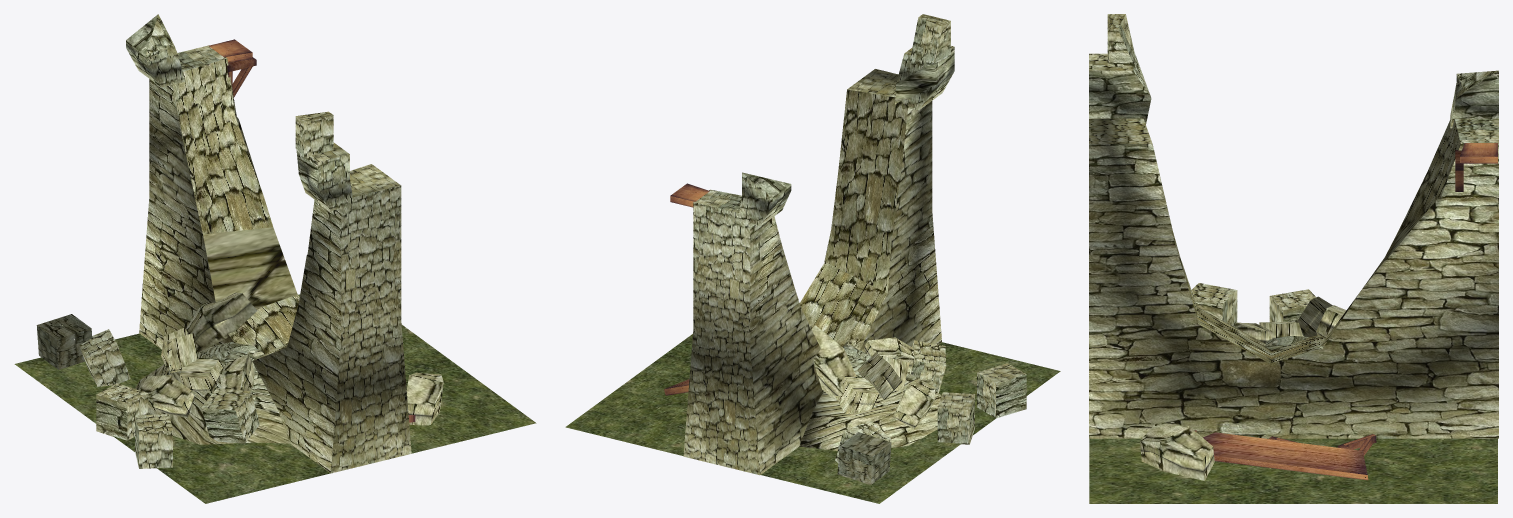
Rendered from Wall1desB.obj.
3 views of the same model, side by side, from view 1: azimuth 30°, elevation 25°; view 2: azimuth 150°, elevation 25°; view 3: azimuth 270°, elevation 25° (orthographic). The views are drawn at different scales.
Visible parts, largest first — view 1: Box385, Mesh03, Plane10, Line27, Box405, Box395, Box278, Box291, Box401, Box404, Box400, Box402 (+7 smaller); view 2: Box385, Mesh03, Plane10, Line27, Box395, Box400, Box404, Box405, Box401, Box291, Box403, Box278 (+6 smaller); view 3: Box385, Plane10, Mesh03, Box406, Box395, Box321, Box405, Box400, Box403, Box401, Box408, Box396 (+3 smaller).
Boxes of the visible parts, <box> form: Box385: <box>139,45,411,473</box>; Mesh03: <box>172,58,299,359</box>; Plane10: <box>14,294,536,503</box>; Line27: <box>135,342,289,444</box>; Box405: <box>126,14,185,87</box>; Box395: <box>296,142,352,210</box>; Box278: <box>201,388,259,443</box>; Box291: <box>186,292,257,353</box>; Box401: <box>96,383,148,440</box>; Box404: <box>36,314,92,369</box>; Box400: <box>135,414,172,468</box>; Box402: <box>79,329,130,386</box>; Box385: <box>683,69,941,475</box>; Mesh03: <box>799,89,908,350</box>; Plane10: <box>565,334,1060,503</box>; Line27: <box>799,343,941,450</box>; Box395: <box>895,46,954,110</box>; Box400: <box>977,363,1026,418</box>; Box404: <box>837,432,891,484</box>; Box405: <box>738,172,791,226</box>; Box401: <box>937,392,974,444</box>; Box291: <box>811,325,856,400</box>; Box403: <box>910,14,950,63</box>; Box278: <box>909,340,946,392</box>; Box385: <box>1089,118,1498,438</box>; Plane10: <box>1089,438,1497,503</box>; Mesh03: <box>1172,118,1460,363</box>; Box406: <box>1203,432,1368,480</box>; Box395: <box>1089,53,1151,124</box>; Box321: <box>1140,425,1214,480</box>; Box405: <box>1450,70,1498,128</box>; Box400: <box>1191,283,1237,324</box>; Box403: <box>1107,14,1135,68</box>; Box401: <box>1269,289,1316,322</box>; Box408: <box>1296,296,1332,337</box>; Box396: <box>1460,143,1497,163</box>.
Bounding box in the file's own units: 79.47 × 77.75 × 76.25.
